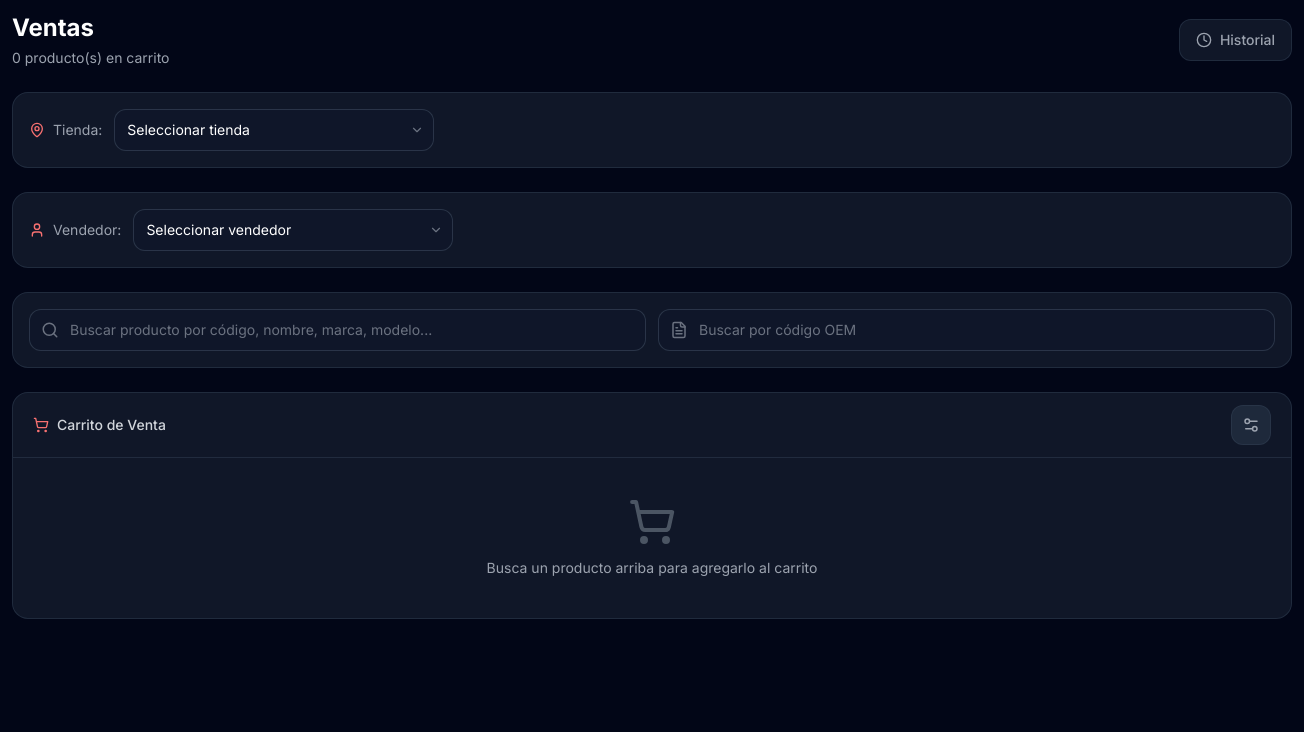
SalesPage — Carrito (E7.5) › eliminar producto lo quita del carrito
The width and height of the screenshot is (1304, 732).
Type "Filtro de Aceite" into the field with placeholder "Buscar producto por código, nombre, marca, modelo..." at [338, 330], box [29,309,646,351]
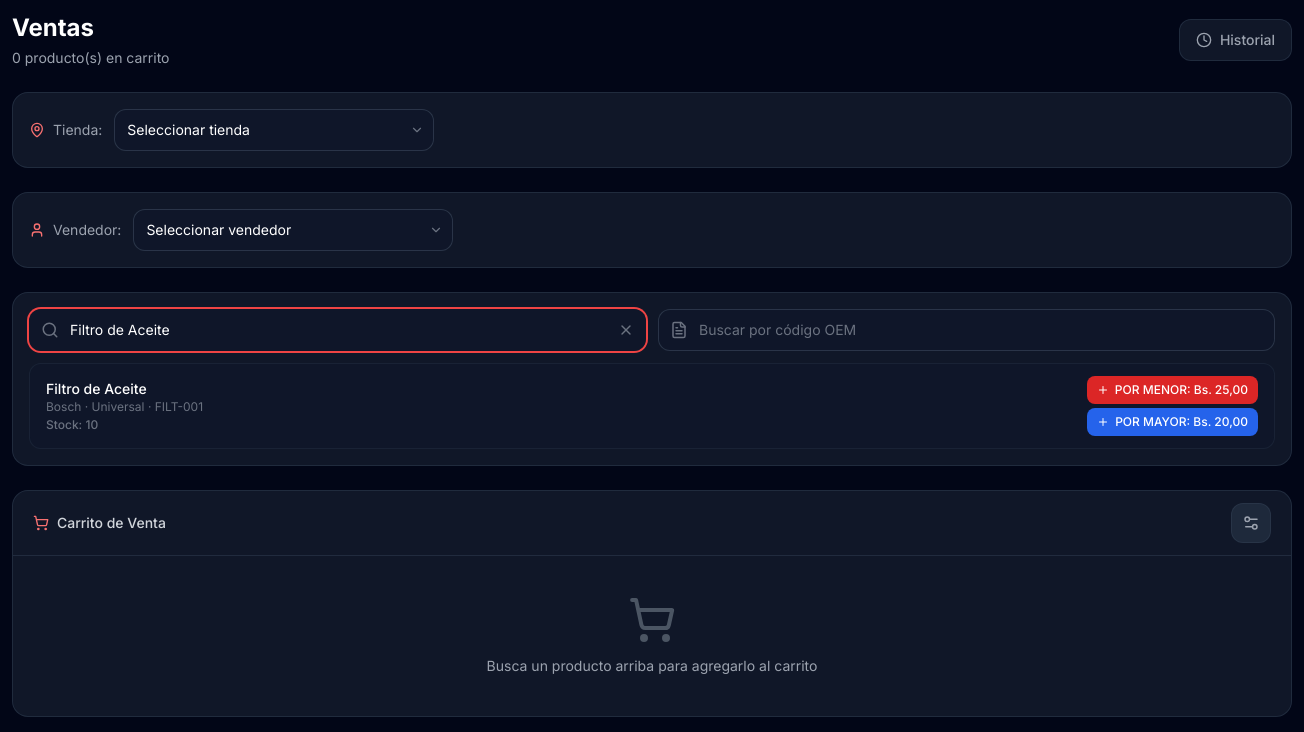
Click the button "POR MENOR: Bs. 25,00" at [1172, 390], box [1087,376,1258,404]
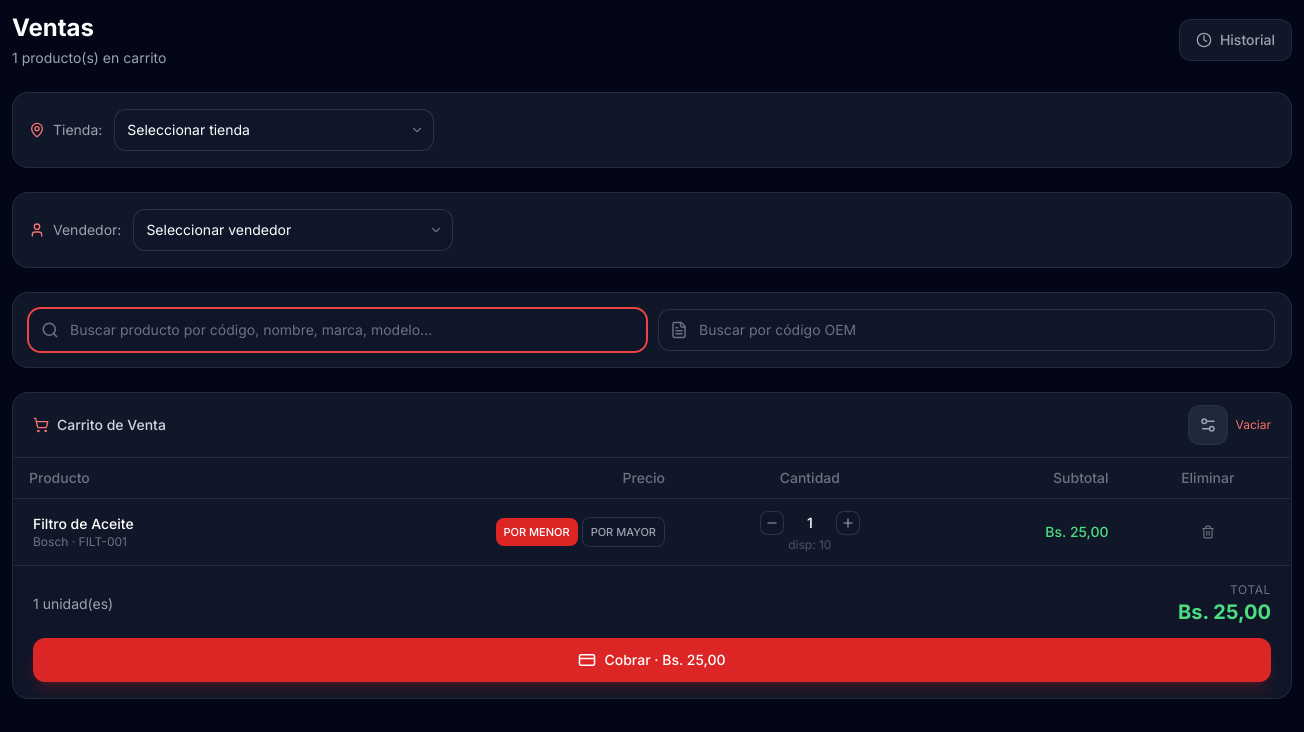
Now the text "1 producto(s) en carrito" is shown, box [12,48,166,68]
Click the 8th button at [1208, 532], box [1195,519,1221,545]
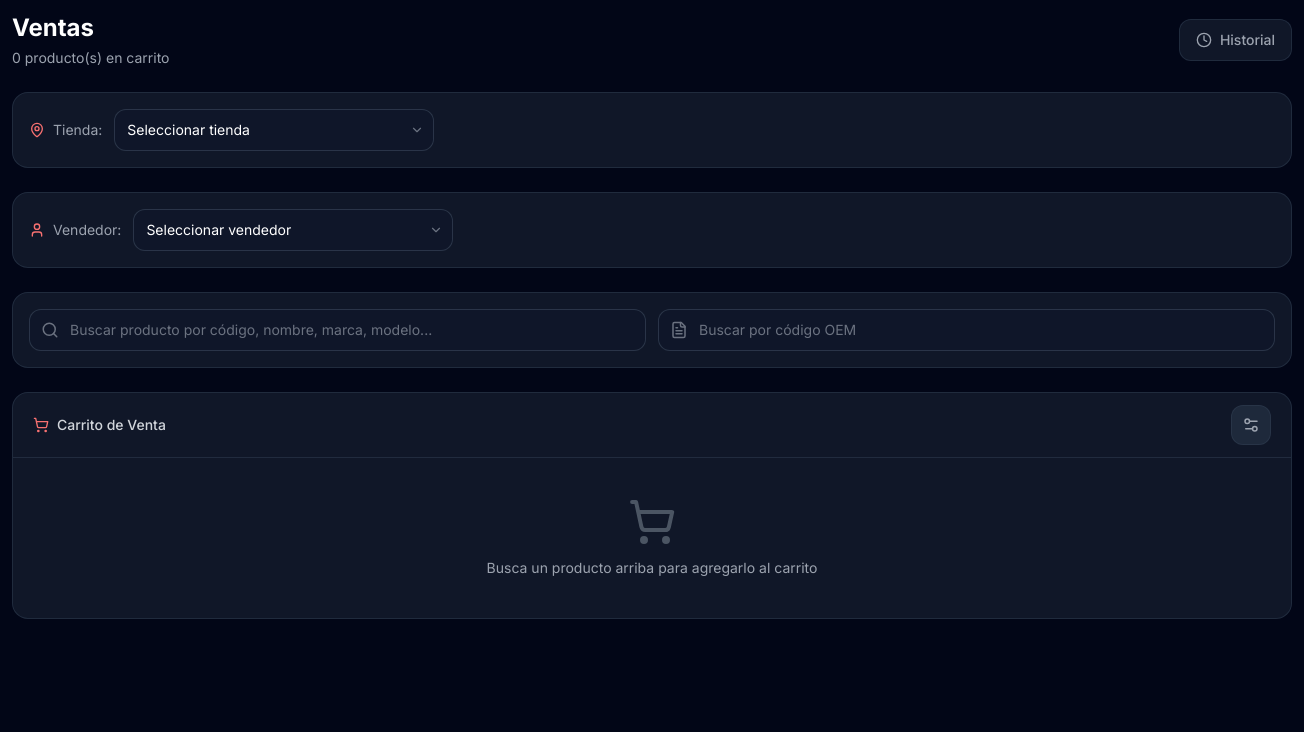
Now the text "Busca un producto arriba para agregarlo al carrito" is shown, box [487,559,817,576]
